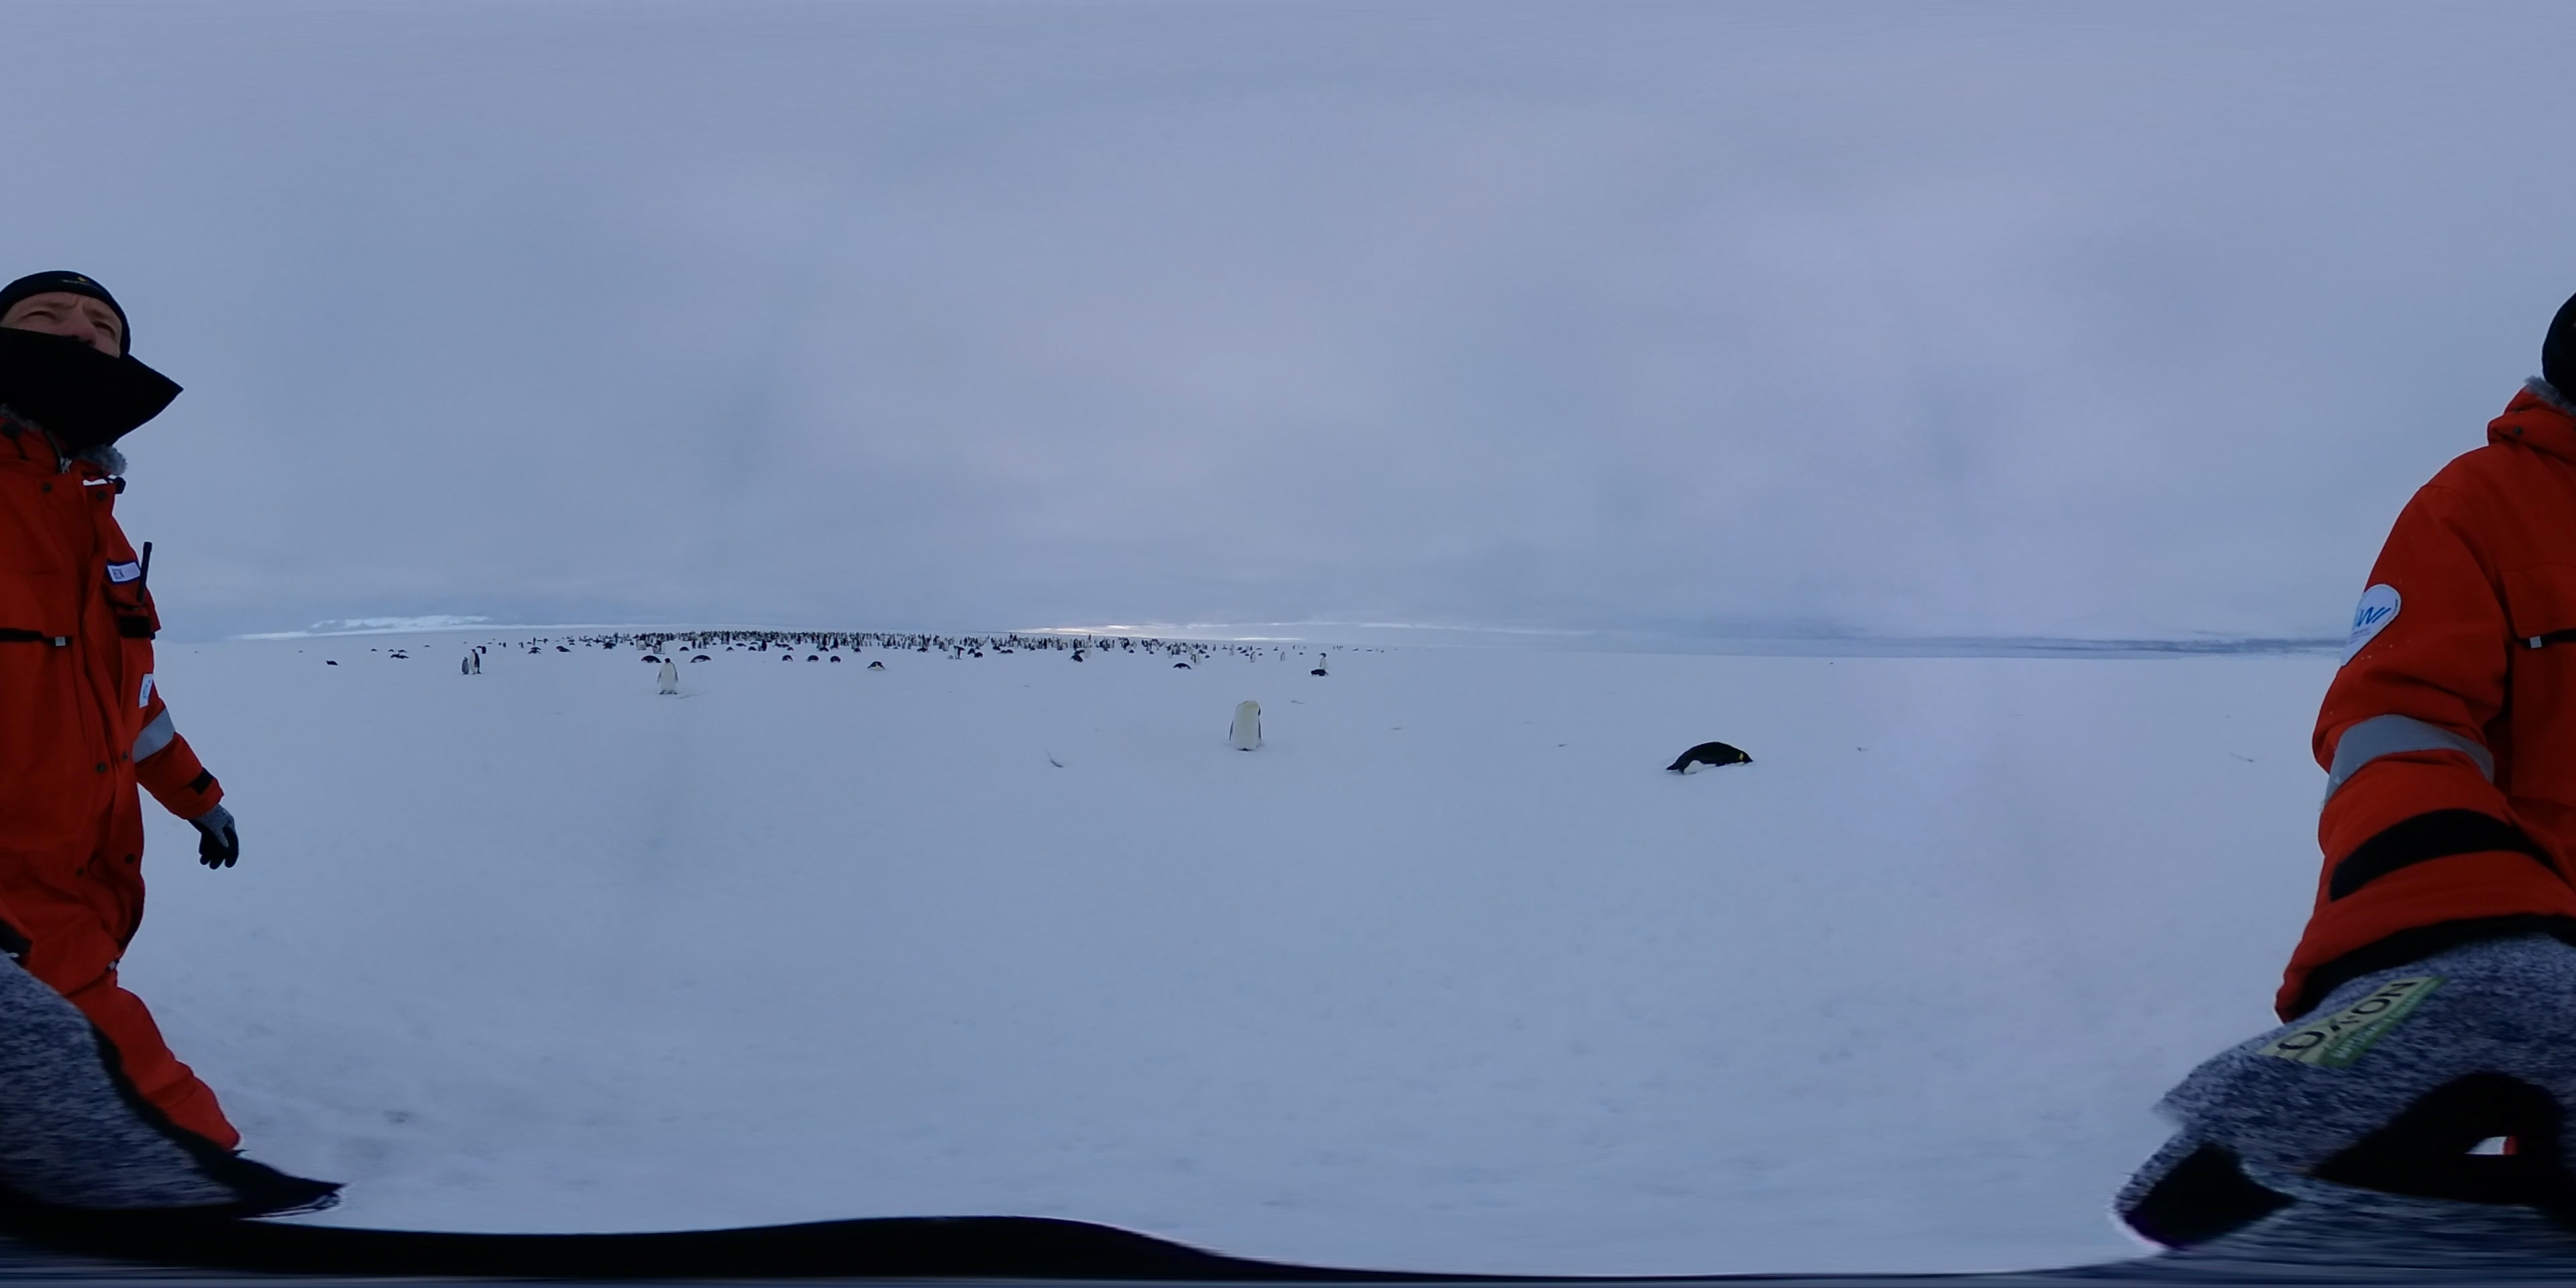adult_standing_penguin: (1226, 698, 1267, 752), (649, 655, 680, 698), (471, 647, 483, 677)
adult_toboggan_penguin: (1664, 741, 1756, 779), (639, 652, 664, 665), (690, 654, 713, 665), (802, 654, 821, 664), (1173, 662, 1193, 672), (828, 654, 843, 665), (867, 660, 884, 670), (784, 654, 792, 660)
researcher: (2175, 276, 2576, 1235), (0, 255, 260, 1207), (460, 657, 470, 675)
